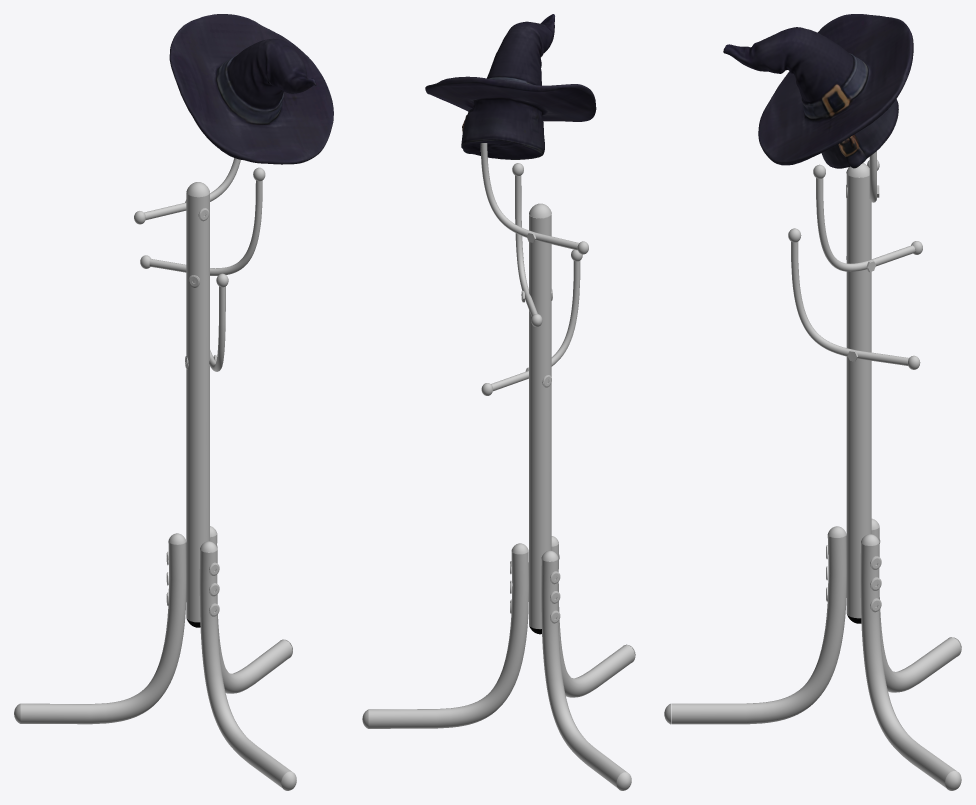
Rendered from bastonSom.obj.
The picture shows the model from 3 angles, left to right: view 1: azimuth 30°, elevation 25°; view 2: azimuth 150°, elevation 25°; view 3: azimuth 270°, elevation 25°; orthographic projection. The views are drawn at different scales.
Visible parts, largest first — view 1: BastonSom; view 2: BastonSom; view 3: BastonSom.
Part boxes in pixels (x1,y1,x2,y2): BastonSom: [14, 14, 333, 790]; BastonSom: [362, 14, 635, 790]; BastonSom: [664, 14, 961, 790].
Bounding box in the file's own units: 1 × 2.4 × 0.9.
